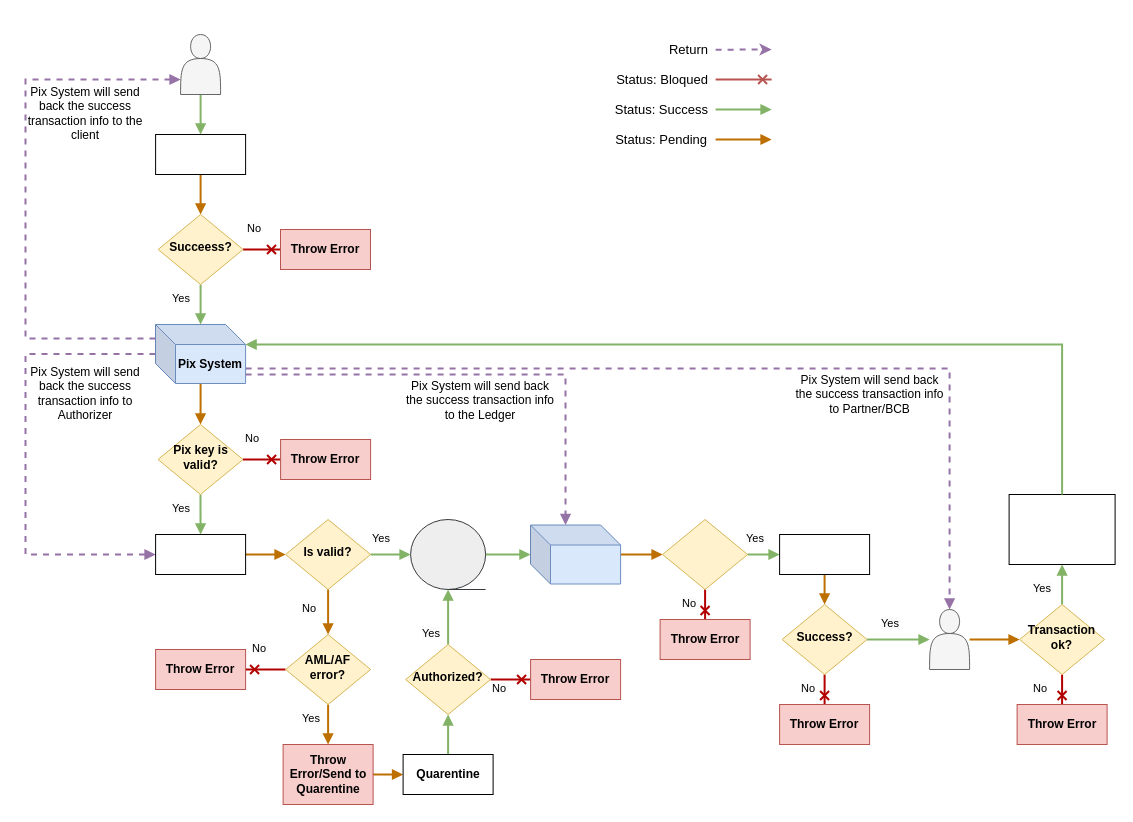
The diagram is 1133 pixels wide and 822 high, and some of its shapes have lost their labels. Each missing label, with the centre of its shape:
API Gateway: (200,154)
Client: (200,64)
Client exists?: (705,554)
Ledger: (575,554)
Moria (Authorizer): (200,554)
Partner: (949,639)
Queue (SQS): (448,554)
Send back the information and finalize the transaction: (1061,529)
Transaction API: (824,554)
